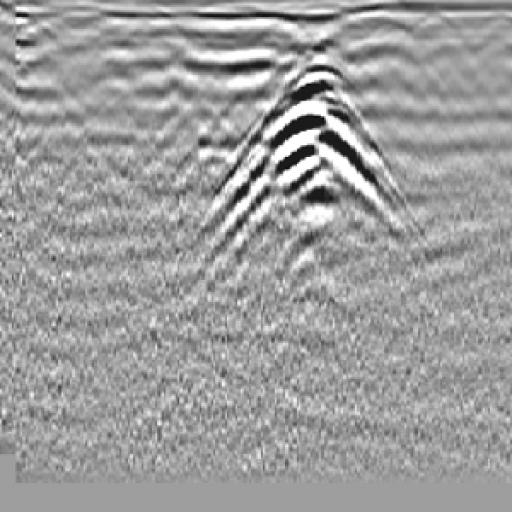metalic: (227, 52, 410, 289)
